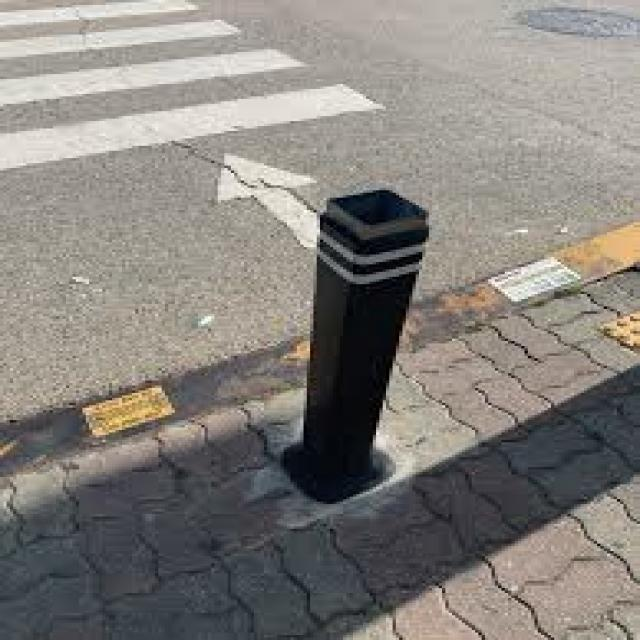bollard: (264, 172, 438, 510)
